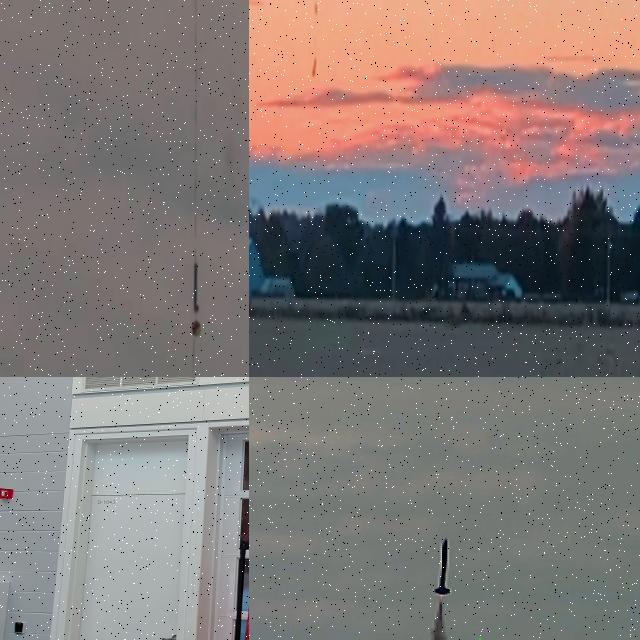Rocket: (434, 538, 451, 596), (193, 262, 200, 312), (312, 59, 316, 77)
